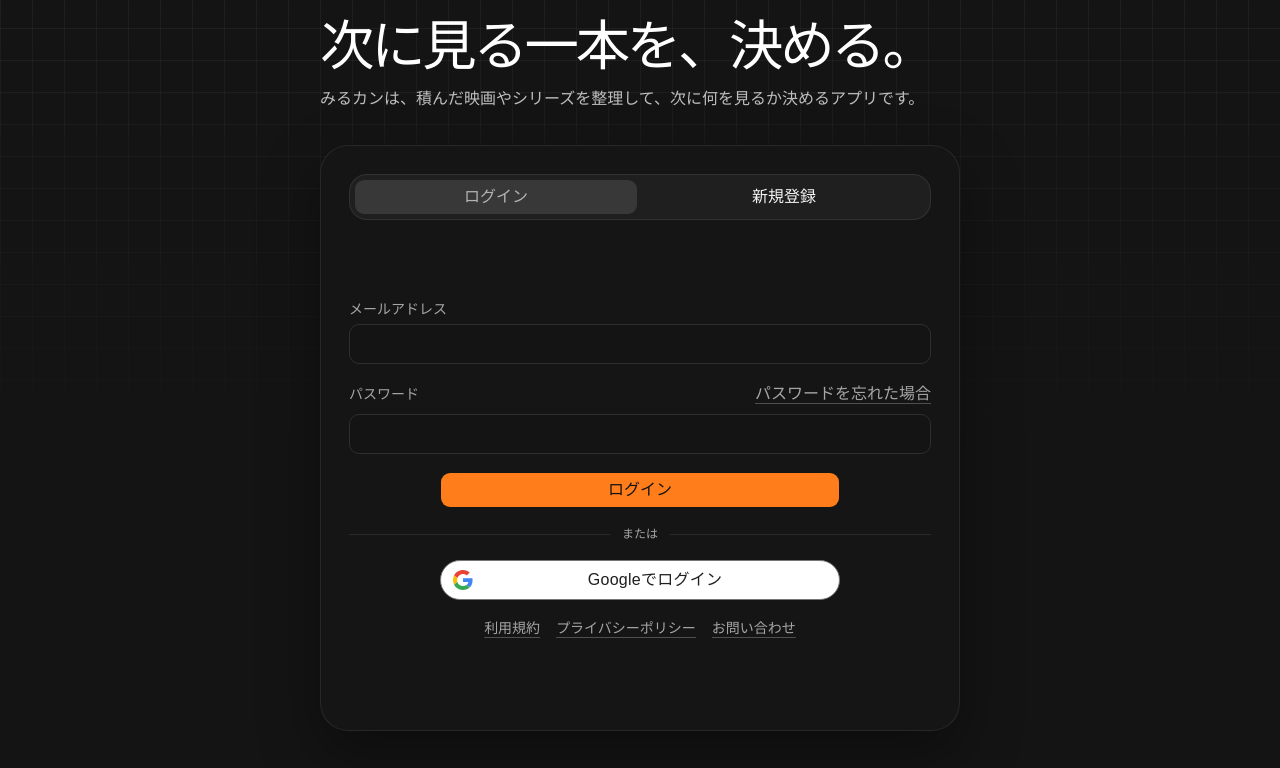
Test: LoginPage › 新規登録で確認用パスワードが不一致なら送信しない
Click the button "新規登録": (784, 197) left=642, top=179, right=926, bottom=215
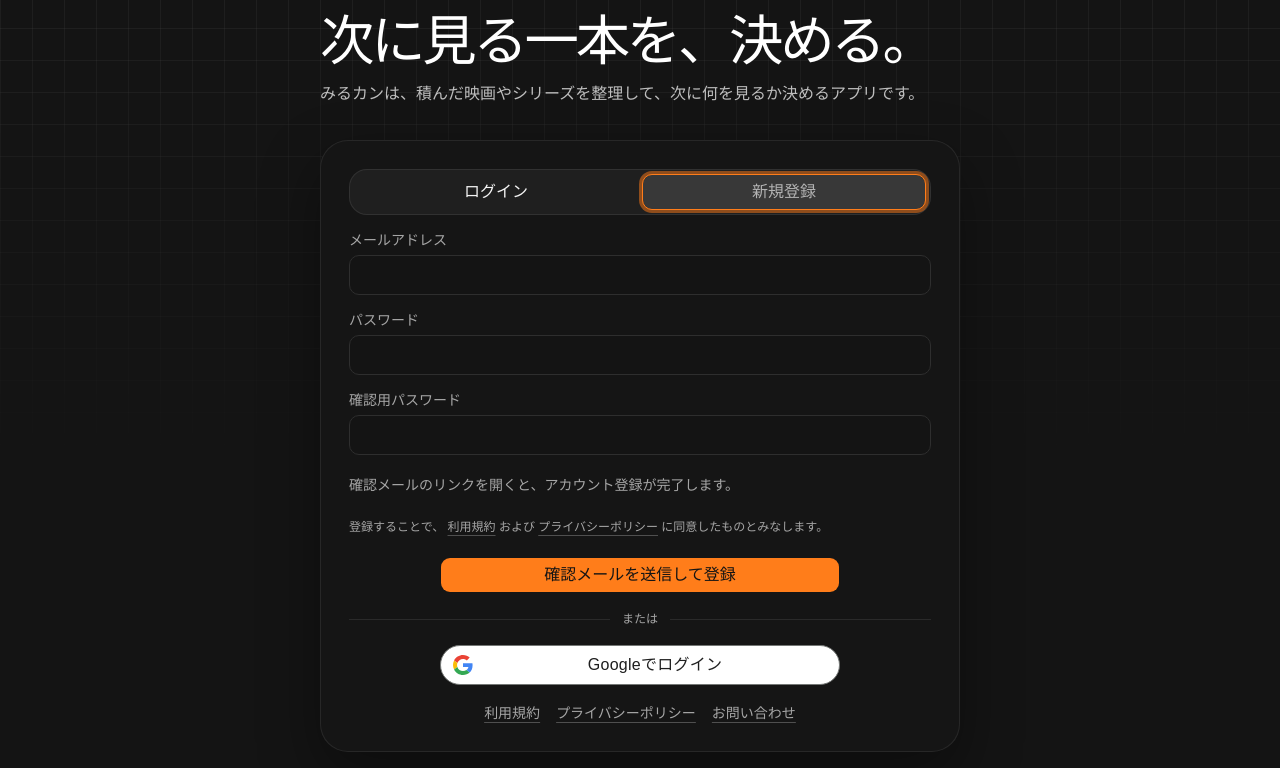
In the field labelled "メールアドレス": (640, 275) left=349, top=255, right=931, bottom=295, type "new-user@example.com"
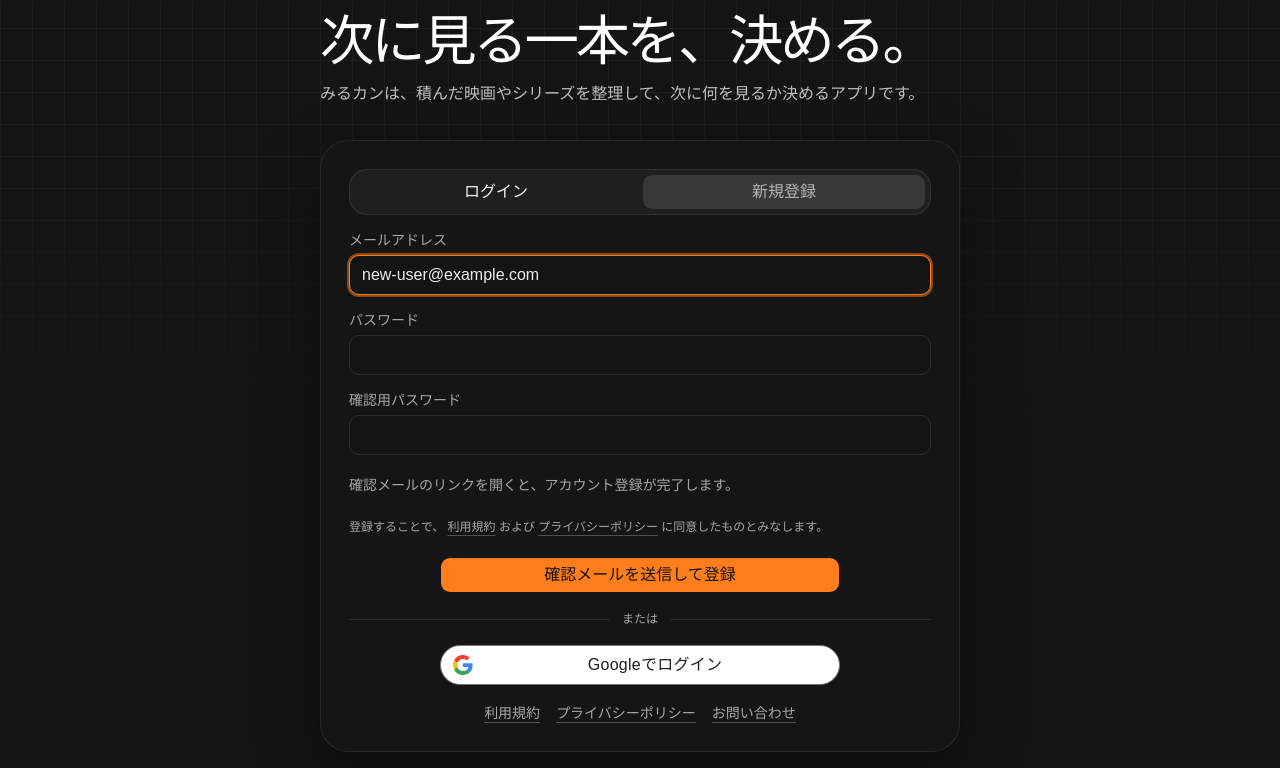
In the password field labelled "パスワード": (640, 355) left=349, top=335, right=931, bottom=375, type "password456"
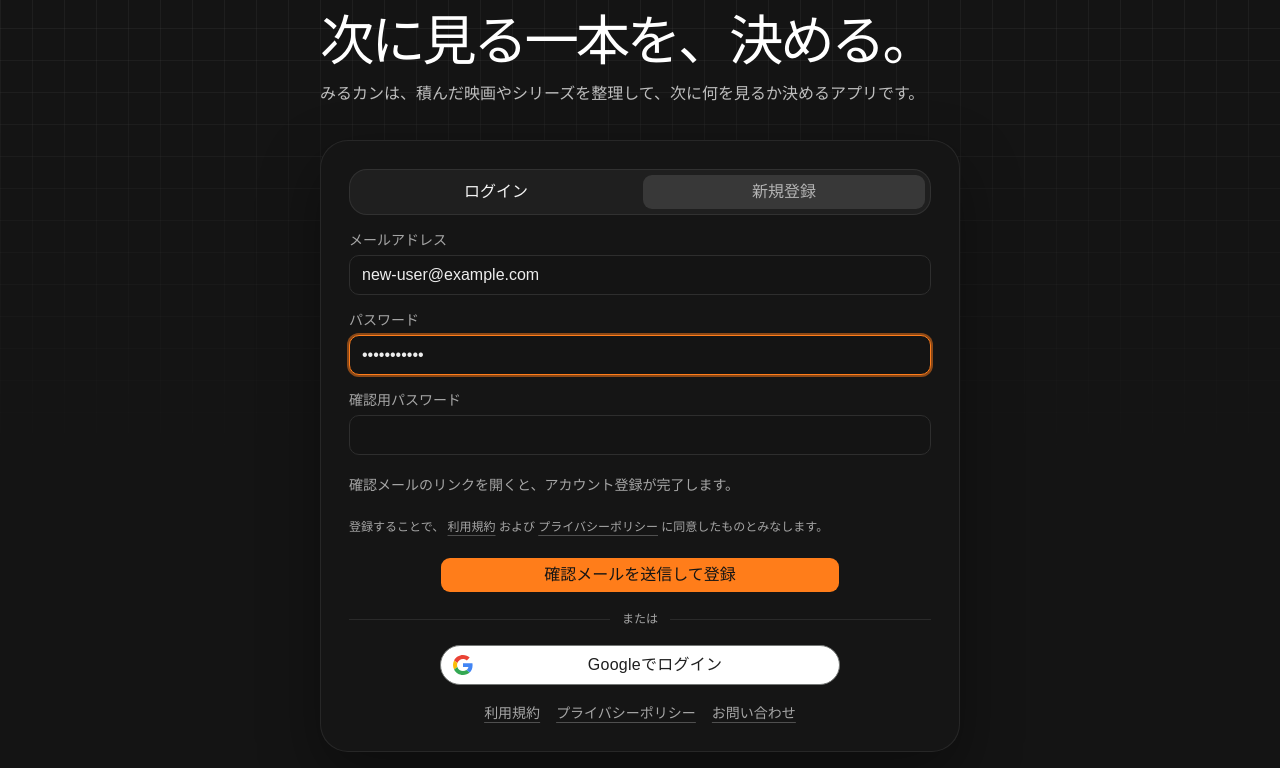
In the password field labelled "確認用パスワード": (640, 435) left=349, top=415, right=931, bottom=455, type "password789"
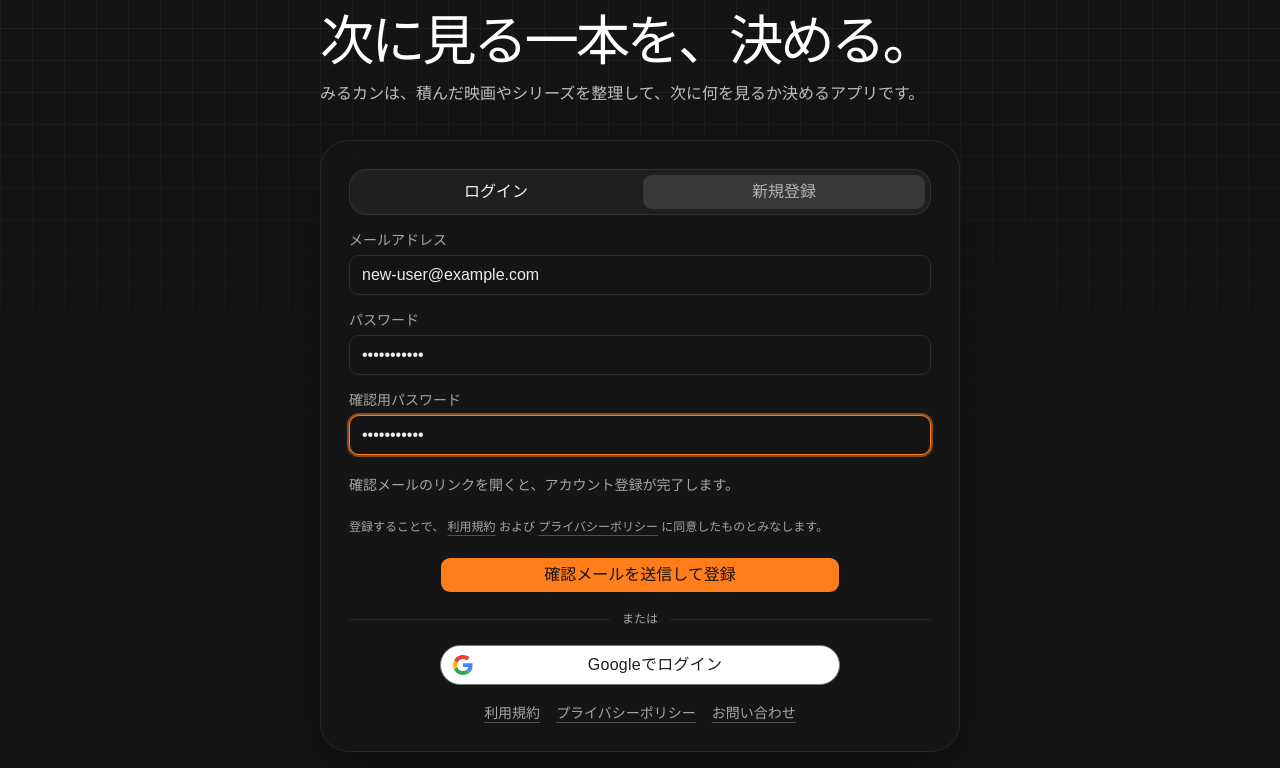
Click the button "確認メールを送信して登録": (640, 575) left=440, top=557, right=840, bottom=593
(page scrolled)
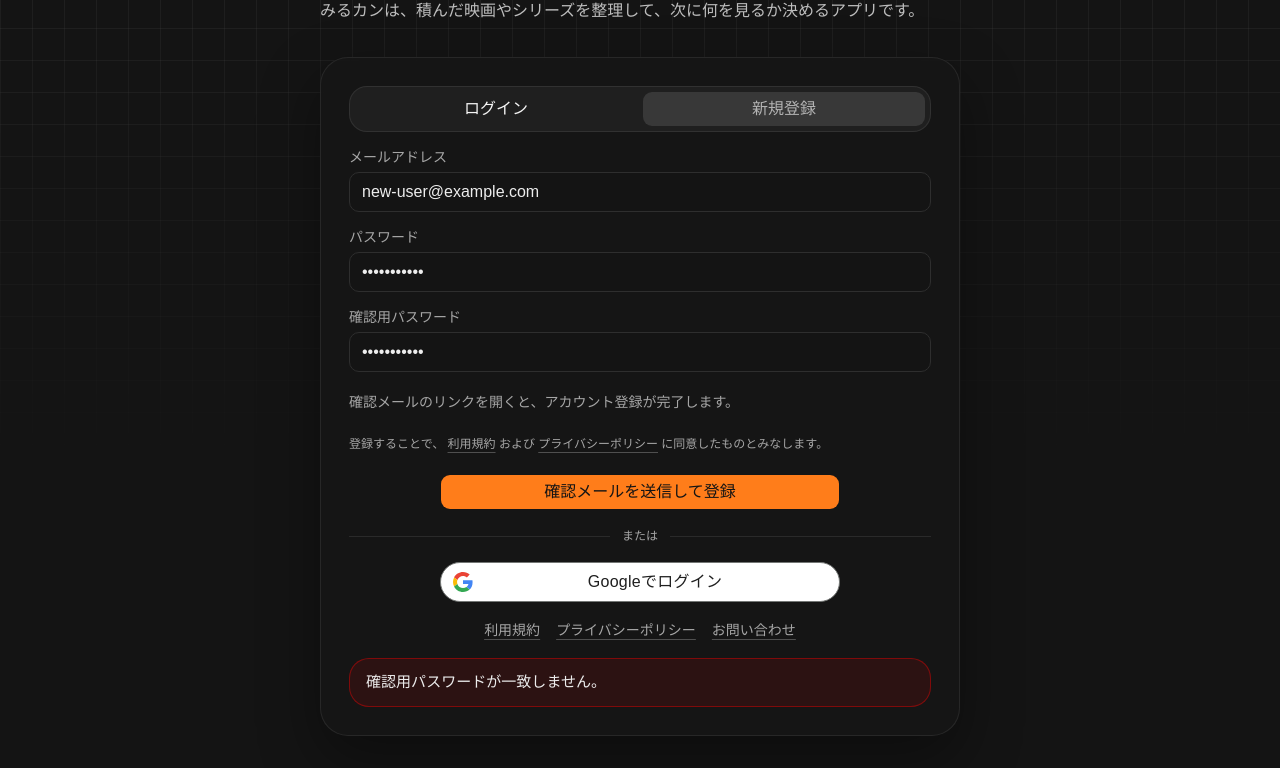
Check: the text "確認用パスワードが一致しません。" is shown, box left=349, top=658, right=931, bottom=707
